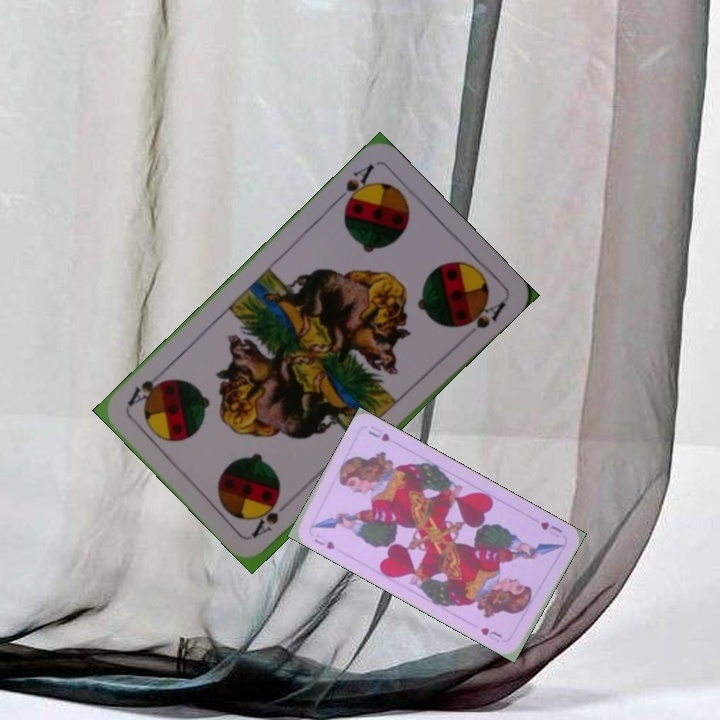HU: (536, 517, 565, 540), (309, 534, 337, 552)
SA: (330, 160, 377, 213), (248, 494, 296, 539)
